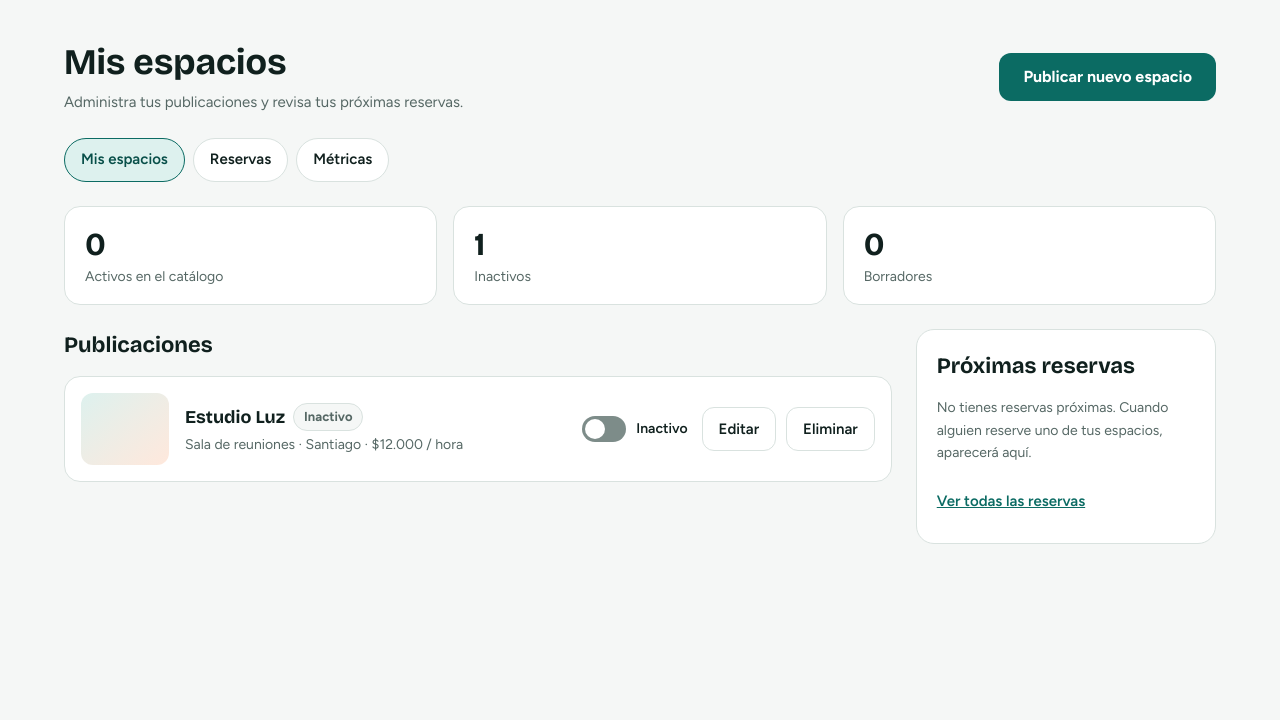
Test: OwnerSpacesPage › activar › lo activa sin pedir confirmación
This screenshot has width=1280, height=720.
Expected: the heading "Publicaciones" is shown, [64,332,213,358]
Click the switch labelled "Inactivo" at (635, 429), box [578,407,692,451]
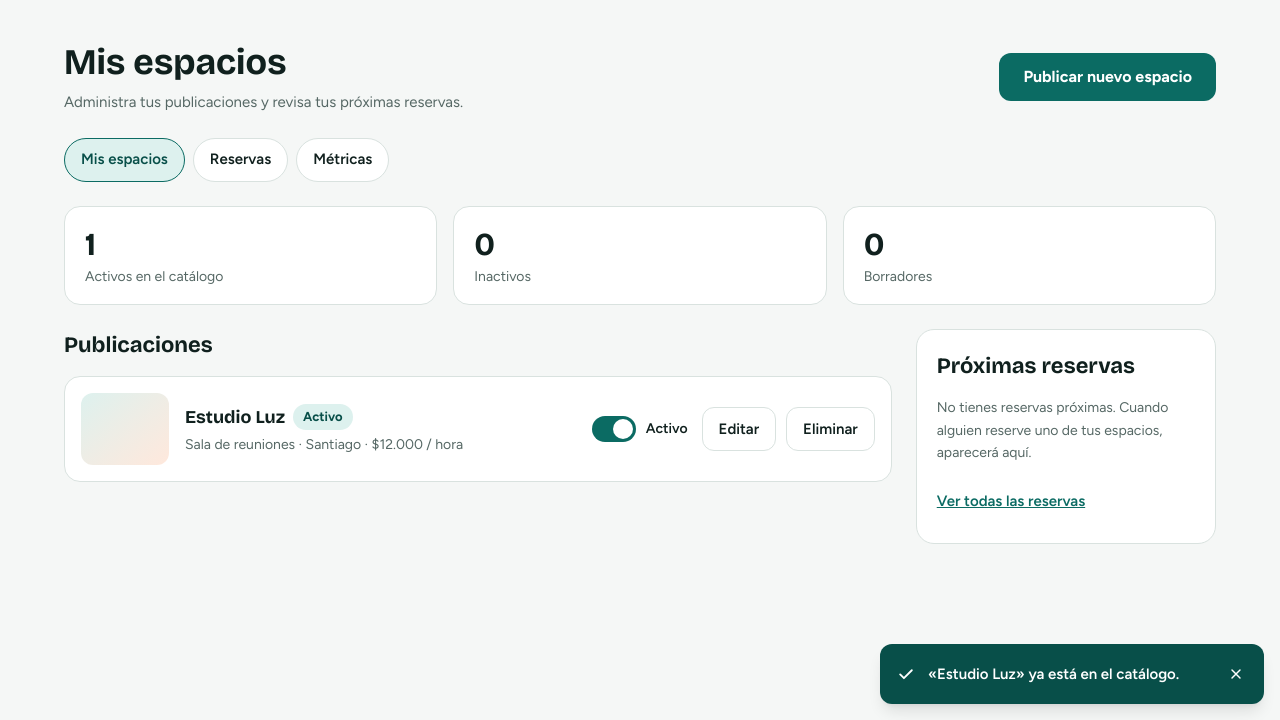
Expected: the text "«Estudio Luz» ya está en el catálogo." is shown, [928,663,1208,685]
